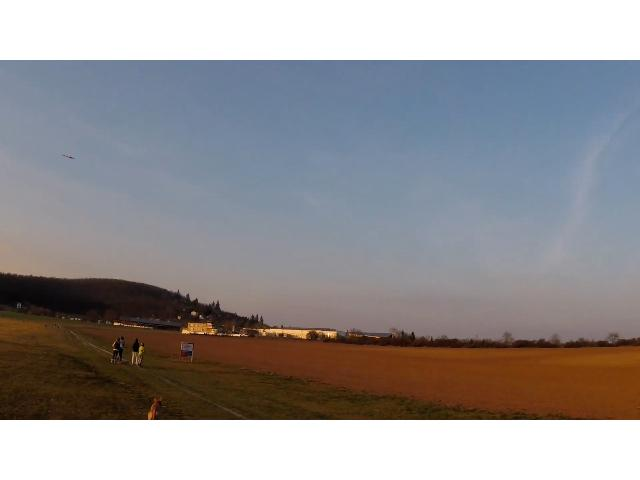Anti-Drone: (63, 155, 75, 159)
